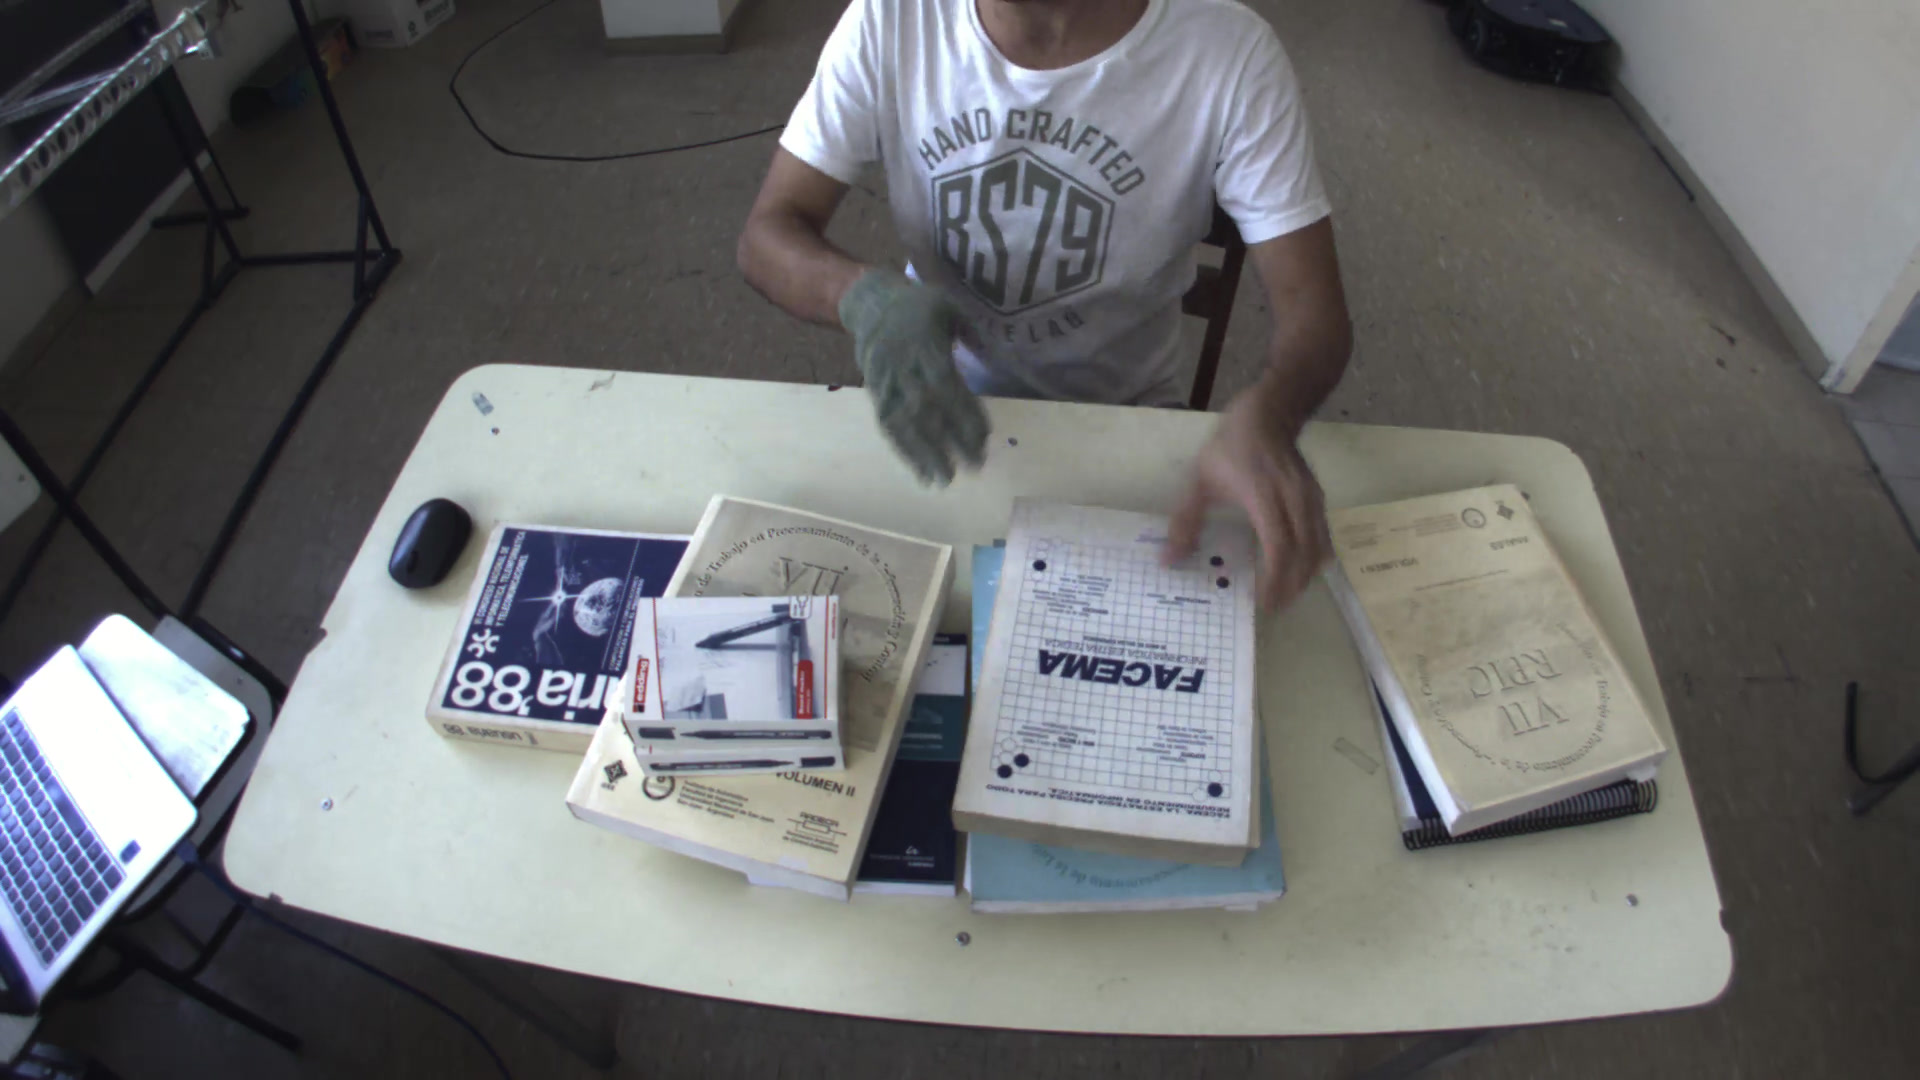hand: (1154, 400, 1352, 611), (837, 287, 1021, 483)
